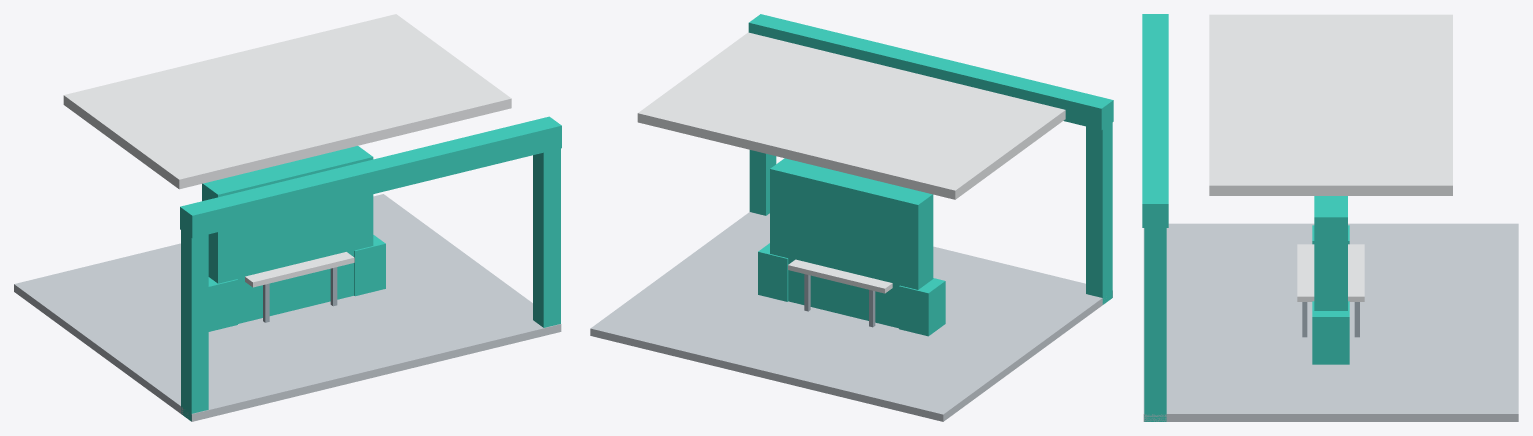
3 renders of one model, left to right at view 1: azimuth 30°, elevation 25°; view 2: azimuth 150°, elevation 25°; view 3: azimuth 270°, elevation 25°, orthographic. The views are drawn at different scales.
Parts seen in each view (by area): view 1: Exhibition Booth Concept; view 2: Exhibition Booth Concept; view 3: Exhibition Booth Concept.
Boxes of the visible parts, <box> form: Exhibition Booth Concept: <box>14,14,561,421</box>; Exhibition Booth Concept: <box>590,14,1113,421</box>; Exhibition Booth Concept: <box>1142,14,1518,421</box>.
Bounding box in the file's own units: 6 × 3.34 × 5.02.
